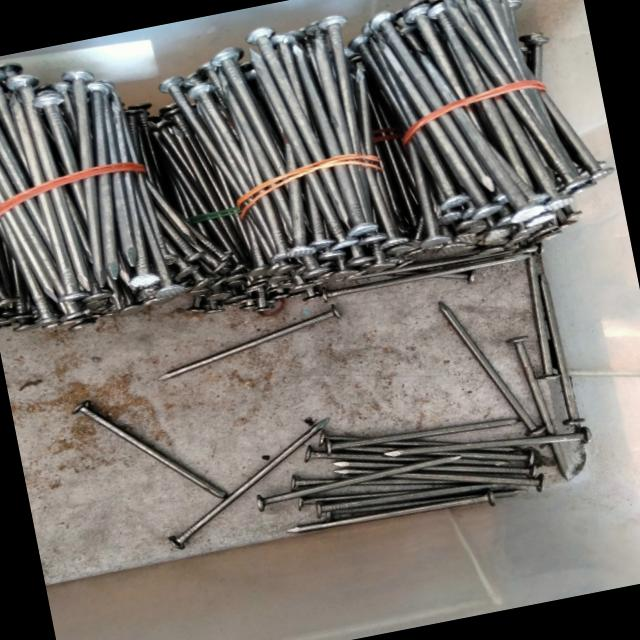3x10 nail: (424, 276, 574, 502), (57, 366, 238, 534), (137, 299, 356, 395)
